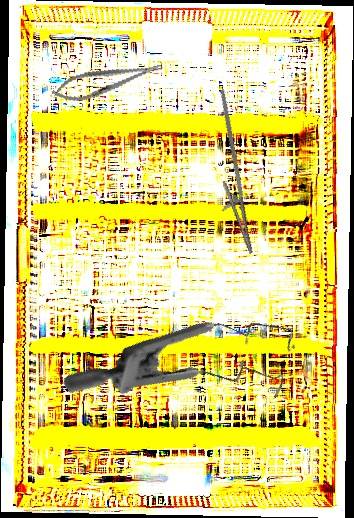Needle Holder: (187, 88, 274, 259), (49, 53, 166, 109)
Speculum: (61, 247, 319, 497)
